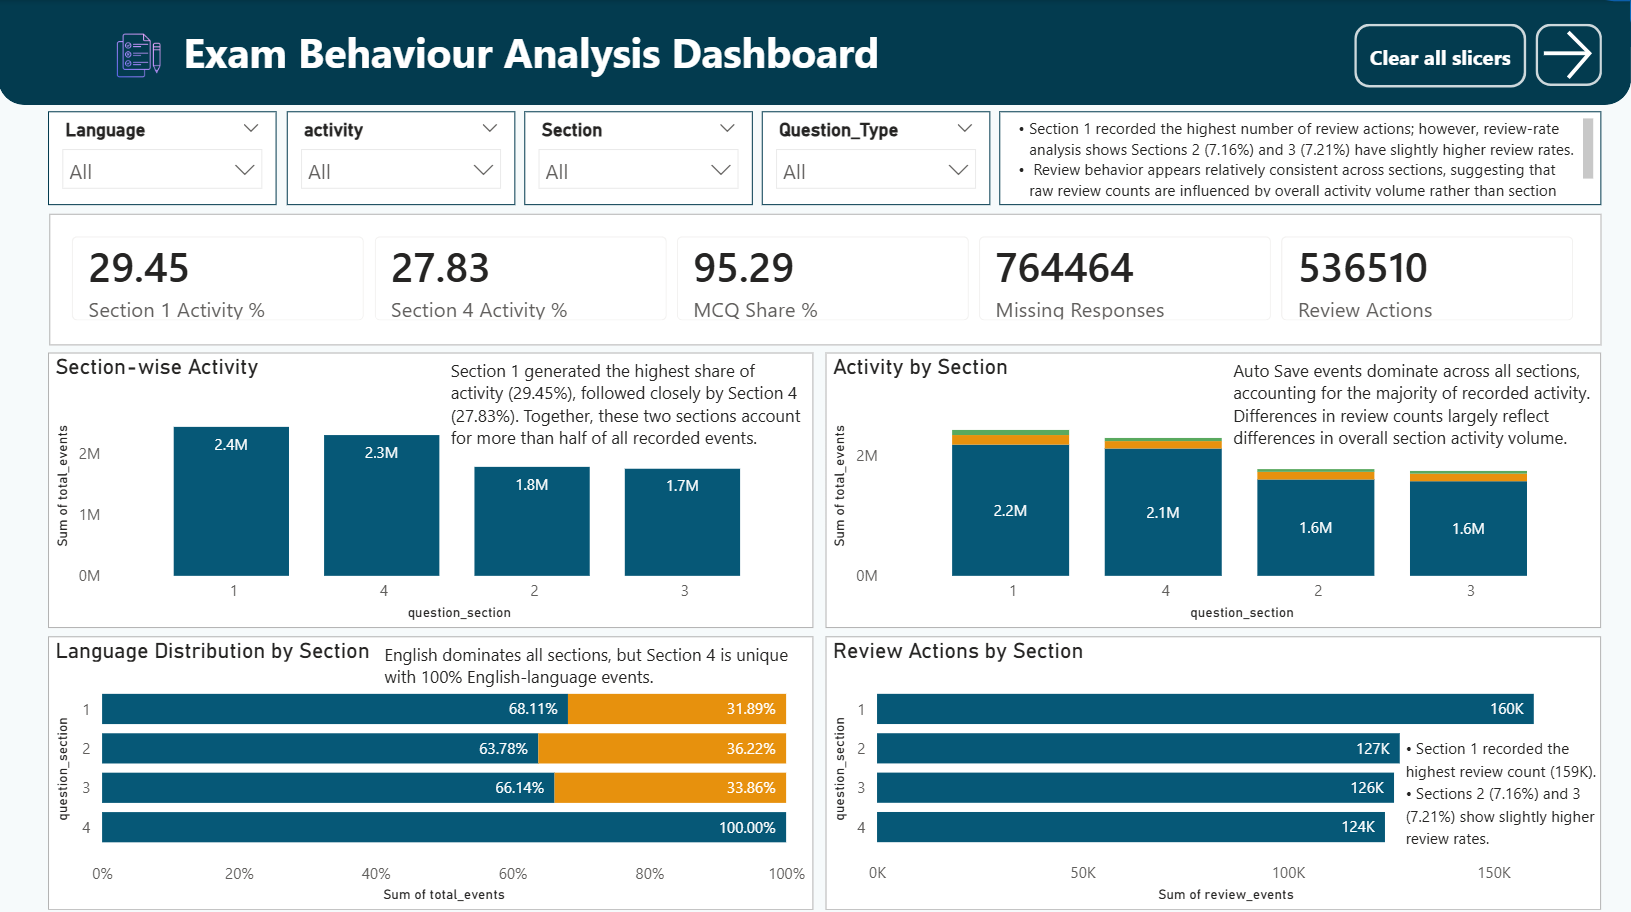

This screenshot's page, from the dashboard's own definition file:
{"tool":"powerbi","page":{"name":"Candidate Behaviour Analysis","canvas":[1280,720],"ordinal":1},"visuals":[{"type":"group","id":"g1","title":"Group 2","box":[0,0,1280.3,82.3],"z":0},{"type":"shape","box":[0,0,1280.3,82.3],"z":0,"group":"g2"},{"type":"shape","box":[1233.6,0,46.7,37],"z":0,"group":"g1"},{"type":"group","id":"g2","title":"Group 1","box":[0,0,1280.3,82.3],"z":1000,"group":"g1"},{"type":"shape","box":[0,0,37,37],"z":1000,"group":"g2"},{"type":"textbox","box":[140,13.7,555.7,53.5],"z":1000},{"type":"slicer","fields":{"Values":["Language_Distribution.question_language"]},"box":[39.5,87.2,179.1,73.3],"z":2000},{"type":"slicer","fields":{"Values":["Activity Distribution.activity"]},"box":[225.9,87.2,179.1,73.3],"z":3000},{"type":"slicer","fields":{"Values":["Section Analysis.question_section"]},"box":[412.2,87.2,179.1,73.3],"z":4000},{"type":"cardVisual","fields":{"Data":["Sum(Candidate Behaviour KPI Cards.section1_pct)","Sum(Candidate Behaviour KPI Cards.section4_pct)","Sum(Candidate Behaviour KPI Cards.mcq_pct)","Sum(Candidate Behaviour KPI Cards.missing_responses)","Sum(Candidate Behaviour KPI Cards.review_actions)"]},"box":[39.8,167.4,1217.2,102.9],"z":5000},{"type":"clusteredColumnChart","title":"Section-wise Activity","fields":{"Category":["Section Analysis.question_section"],"Y":["Sum(Section Analysis.total_events)"]},"box":[39.5,276.7,600,216.3],"z":6000},{"type":"textbox","box":[350,276.7,289.5,83.7],"z":7000},{"type":"columnChart","title":"Activity by Section","fields":{"Category":["Activity by Section.question_section"],"Series":["Activity by Section.activity"],"Y":["Sum(Activity by Section.total_events)"]},"box":[648.8,276.7,608.1,216.3],"z":8000},{"type":"hundredPercentStackedBarChart","title":"Language Distribution by Section","fields":{"Category":["Language Distribution by Section.question_section"],"Y":["Sum(Language Distribution by Section.total_events)"],"Series":["Language Distribution by Section.question_language"]},"box":[39.5,498.8,600,215.1],"z":9000},{"type":"clusteredBarChart","title":"Review Actions by Section","fields":{"Category":["Section Mark for Review & Next Analysis.question_section"],"Y":["Sum(Section Mark for Review & Next Analysis.review_events)"]},"box":[649,499,608,215],"z":10000},{"type":"textbox","box":[784.9,87.2,472.1,73.3],"z":11000},{"type":"group","id":"g3","title":"Group 3","box":[1062.8,18.6,194.2,50],"z":12000},{"type":"actionButton","box":[1062.8,18.6,134.9,50],"z":13000,"group":"g3"},{"type":"textbox","box":[962.8,276.7,294.2,83.7],"z":13000},{"type":"actionButton","box":[1204.7,18.6,52.3,48.8],"z":14000,"group":"g3"},{"type":"slicer","fields":{"Values":["Question Type.question_type"]},"box":[598.5,87.2,179.1,73.3],"z":14000},{"type":"image","box":[80.2,25.6,59.3,36],"z":15000},{"type":"textbox","box":[297.7,498.8,343,45.3],"z":16000},{"type":"textbox","box":[1098.5,571.8,169.4,100.6],"z":17000}]}

Visuals, with their boxes in screenshot pixels (x1, y1, x2, y2), scaled from the page's 1280x720 canvas onto the 1631x912 screenshot:
"Group 2" group: box=[0, 0, 1630, 104]
shape: box=[0, 0, 1630, 104]
shape: box=[1572, 0, 1630, 47]
"Group 1" group: box=[0, 0, 1630, 104]
shape: box=[0, 0, 47, 47]
textbox: box=[178, 17, 886, 85]
slicer - Language_Distribution.question_language: box=[50, 110, 279, 203]
slicer - Activity Distribution.activity: box=[288, 110, 516, 203]
slicer - Section Analysis.question_section: box=[525, 110, 753, 203]
cardVisual - Sum(Candidate Behaviour KPI Cards.section1_pct) x Sum(Candidate Behaviour KPI Cards.section4_pct): box=[51, 212, 1602, 342]
"Section-wise Activity" clusteredColumnChart: box=[50, 350, 815, 624]
textbox: box=[446, 350, 815, 457]
"Activity by Section" columnChart: box=[827, 350, 1602, 624]
"Language Distribution by Section" hundredPercentStackedBarChart: box=[50, 632, 815, 904]
"Review Actions by Section" clusteredBarChart: box=[827, 632, 1602, 904]
textbox: box=[1000, 110, 1602, 203]
"Group 3" group: box=[1354, 24, 1602, 87]
actionButton: box=[1354, 24, 1526, 87]
textbox: box=[1227, 350, 1602, 457]
actionButton: box=[1535, 24, 1602, 85]
slicer - Question Type.question_type: box=[763, 110, 991, 203]
image: box=[102, 32, 178, 78]
textbox: box=[379, 632, 816, 689]
textbox: box=[1400, 724, 1616, 852]
